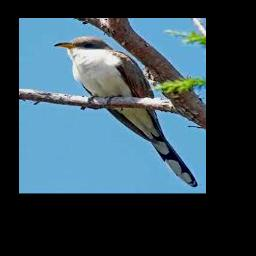Cuckoo: (53, 36, 197, 187)
